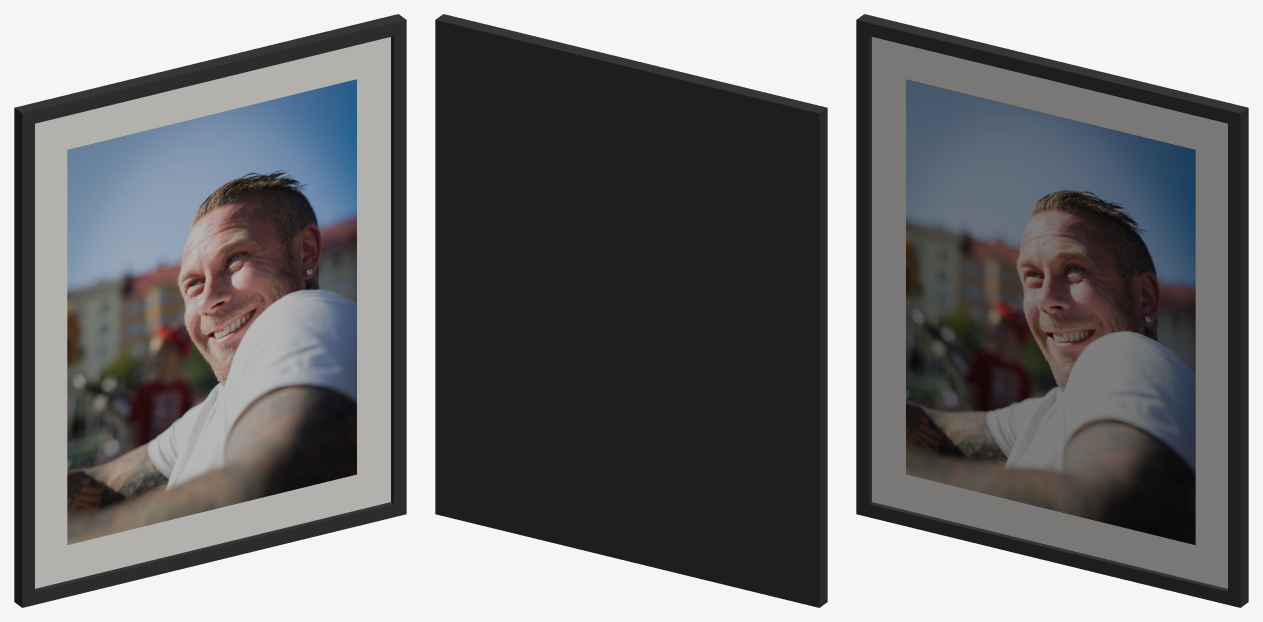
File: vila-i-frid-60.gltf
The picture shows the model from 3 angles, left to right: view 1: azimuth 30°, elevation 25°; view 2: azimuth 150°, elevation 25°; view 3: azimuth 330°, elevation 25°; orthographic projection.
Visible parts, largest first — view 1: tavla; view 2: tavla; view 3: tavla.
Boxes of the visible parts, x1,y1,x2,y2 form: tavla: (14,14,406,607); tavla: (435,14,827,607); tavla: (856,14,1248,607).
Size of the model in its own units: 0.61 by 0.7503 by 0.022.
Materials: 3 (1 with a texture image).
